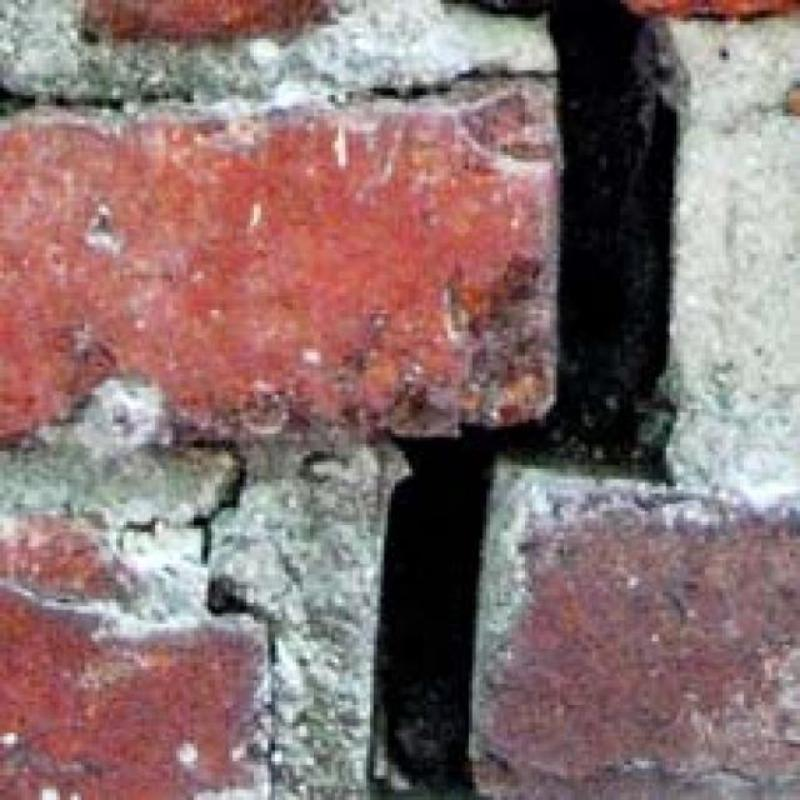pothole: (375, 0, 678, 800)
